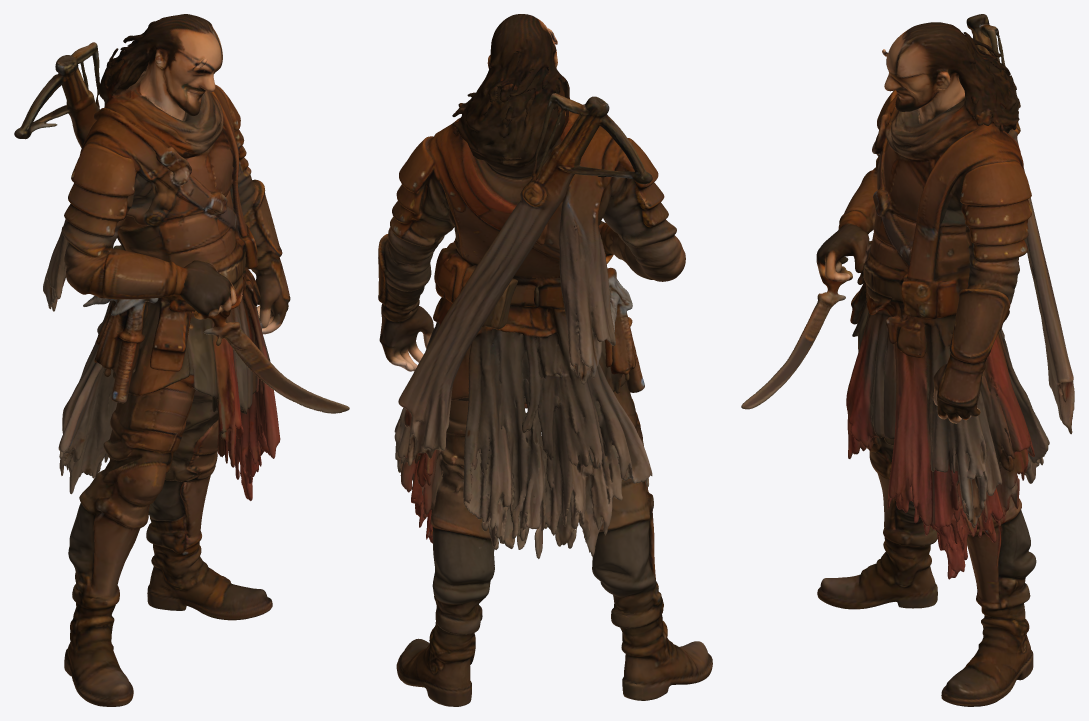
File: comam-obabaroy-v2.5.glb
3 views of the same model, side by side, from view 1: azimuth 30°, elevation 25°; view 2: azimuth 150°, elevation 25°; view 3: azimuth 270°, elevation 25° (orthographic). The views are drawn at different scales.
Parts seen in each view (by area): view 1: tripo_node_7564a5dc-24c8-4ecd-8013-9f323a4b245e; view 2: tripo_node_7564a5dc-24c8-4ecd-8013-9f323a4b245e; view 3: tripo_node_7564a5dc-24c8-4ecd-8013-9f323a4b245e.
Part boxes in pixels (left/top/right/bottom): tripo_node_7564a5dc-24c8-4ecd-8013-9f323a4b245e: left=14, top=14, right=349, bottom=706; tripo_node_7564a5dc-24c8-4ecd-8013-9f323a4b245e: left=378, top=14, right=712, bottom=706; tripo_node_7564a5dc-24c8-4ecd-8013-9f323a4b245e: left=741, top=14, right=1074, bottom=706.
Bounding box in the file's own units: 0.4383 × 1 × 0.4735.
Materials: 1 (1 with a texture image).
